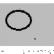no answer: (4, 9, 34, 32)
